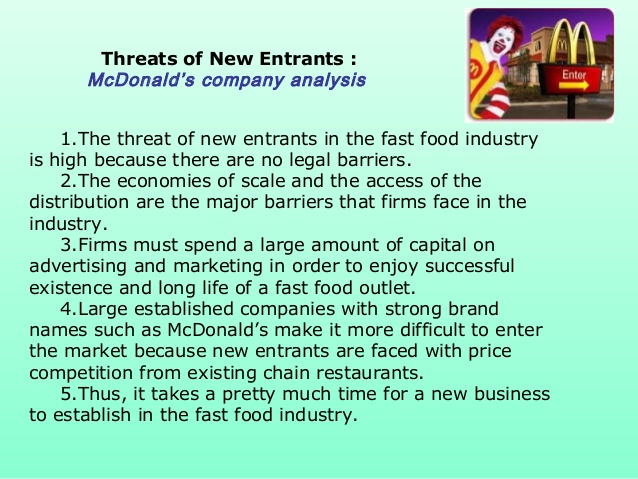mcdonalds: (547, 15, 599, 75), (547, 15, 598, 67)
